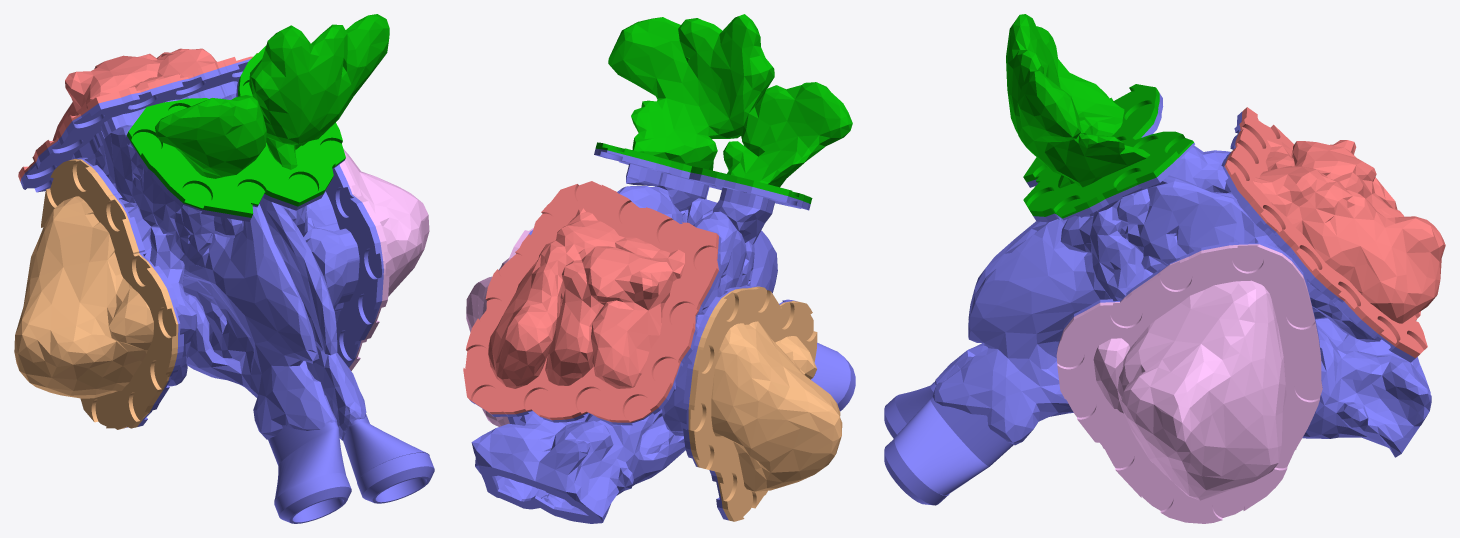
The model's file is sinus-assem.glb.
The picture shows the model from 3 angles, left to right: view 1: azimuth 30°, elevation 25°; view 2: azimuth 150°, elevation 25°; view 3: azimuth 270°, elevation 25°; orthographic projection. The views are drawn at different scales.
Visible parts, largest first — view 1: Upper Respiratory Cast 54-1, RightMaxillary4-1, FrontalSinus4-1, Sphenoid4-1, LeftMaxillary4-1; view 2: Sphenoid4-1, Upper Respiratory Cast 54-1, FrontalSinus4-1, RightMaxillary4-1, LeftMaxillary4-1; view 3: Upper Respiratory Cast 54-1, LeftMaxillary4-1, Sphenoid4-1, FrontalSinus4-1.
Boxes of the visible parts, x1,y1,x2,y2 form: Upper Respiratory Cast 54-1: [20, 59, 434, 523]; RightMaxillary4-1: [14, 159, 178, 429]; FrontalSinus4-1: [127, 14, 389, 217]; Sphenoid4-1: [18, 48, 257, 181]; LeftMaxillary4-1: [339, 149, 429, 370]; Sphenoid4-1: [463, 181, 718, 422]; Upper Respiratory Cast 54-1: [470, 148, 855, 523]; FrontalSinus4-1: [595, 14, 852, 203]; RightMaxillary4-1: [688, 286, 842, 521]; LeftMaxillary4-1: [466, 224, 534, 426]; Upper Respiratory Cast 54-1: [884, 93, 1431, 505]; LeftMaxillary4-1: [1056, 244, 1322, 523]; Sphenoid4-1: [1224, 107, 1445, 358]; FrontalSinus4-1: [1006, 14, 1193, 218].
Bounding box in the file's own units: 0.1025 × 0.1098 × 0.1217.
